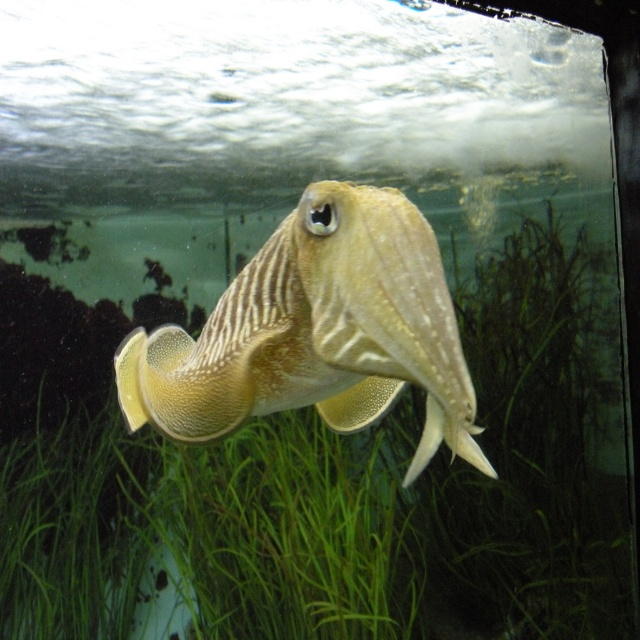Fish: (113, 181, 499, 489)
